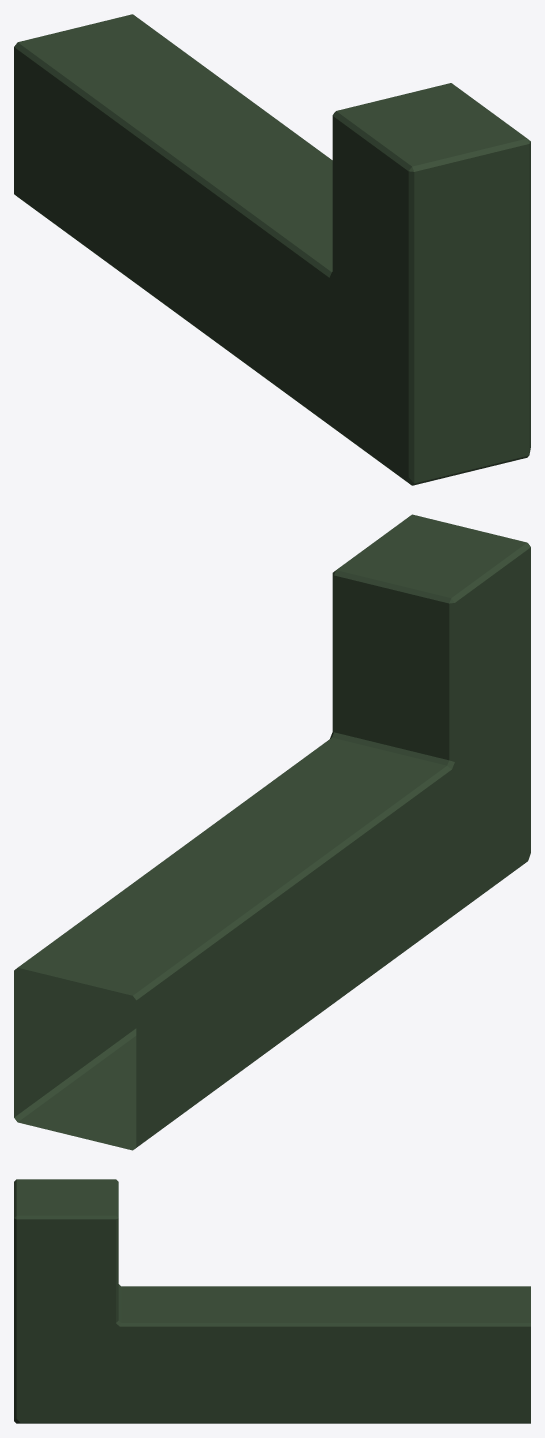
Rendered from Corridor_StartEnd.fbx.
The picture shows the model from 3 angles, top to bottom: view 1: azimuth 30°, elevation 25°; view 2: azimuth 150°, elevation 25°; view 3: azimuth 270°, elevation 25°; orthographic projection. The views are drawn at different scales.
Visible parts, largest first — view 1: Corridor Up; view 2: Corridor Up; view 3: Corridor Up.
Part boxes in pixels (bbox=[...]): Corridor Up: bbox=[14, 14, 530, 485]; Corridor Up: bbox=[14, 514, 530, 1150]; Corridor Up: bbox=[14, 1179, 530, 1423].
Size of the model in its own units: 156 by 390 by 878.
